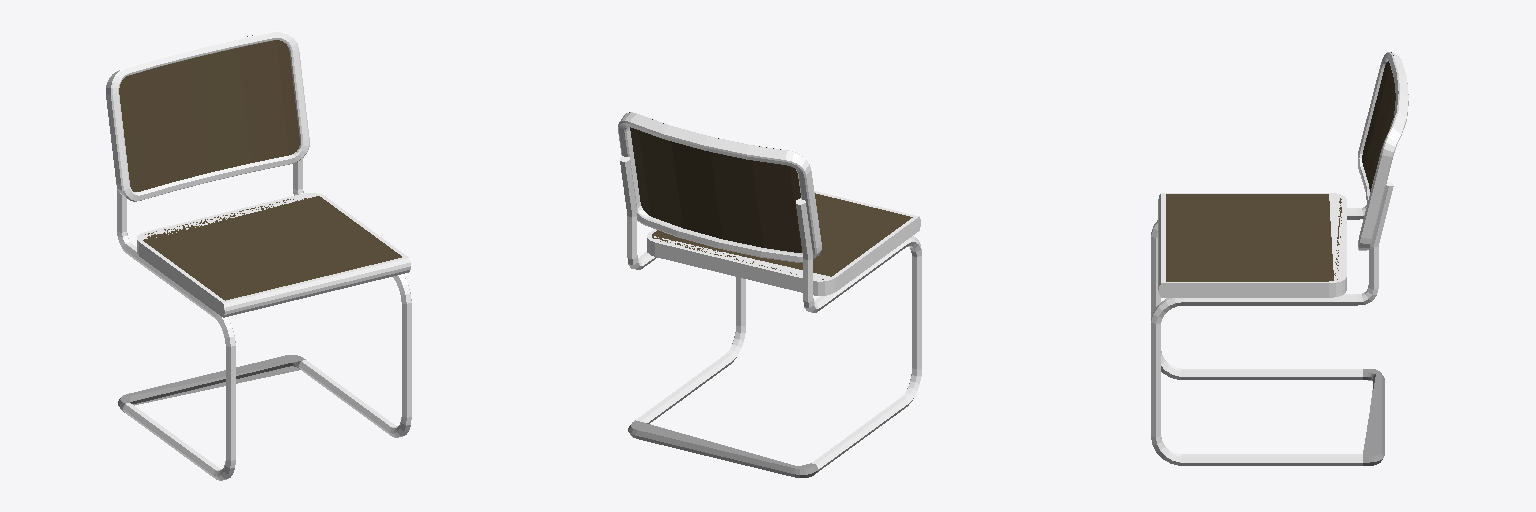
Rendered from CadeiraCescaMarcel.obj.
The picture shows the model from 3 angles: view 1: azimuth 30°, elevation 25°; view 2: azimuth 150°, elevation 25°; view 3: azimuth 270°, elevation 25°; orthographic projection.
Visible parts, largest first — view 1: Mesh2 seatback_cane1 cesca_seatback1 Model, Mesh7 cesca_seat_caine1 cesca_seat1 Model, Mesh6 seat_frame2_1 cesca_seat1 Model, Mesh1 seatback_frame1 cesca_seatback1 Model, Mesh4 frame_half203_1_1 cesca_frame1 Model, Mesh5 frame_half203_1_2 cesca_frame1 Model, Mesh3 bottom_rear_1_1 cesca_frame1 Model; view 2: Mesh2 seatback_cane1 cesca_seatback1 Model, Mesh1 seatback_frame1 cesca_seatback1 Model, Mesh6 seat_frame2_1 cesca_seat1 Model, Mesh7 cesca_seat_caine1 cesca_seat1 Model, Mesh4 frame_half203_1_1 cesca_frame1 Model, Mesh5 frame_half203_1_2 cesca_frame1 Model, Mesh3 bottom_rear_1_1 cesca_frame1 Model; view 3: Mesh7 cesca_seat_caine1 cesca_seat1 Model, Mesh5 frame_half203_1_2 cesca_frame1 Model, Mesh6 seat_frame2_1 cesca_seat1 Model, Mesh1 seatback_frame1 cesca_seatback1 Model, Mesh4 frame_half203_1_1 cesca_frame1 Model, Mesh2 seatback_cane1 cesca_seatback1 Model, Mesh3 bottom_rear_1_1 cesca_frame1 Model.
Part boxes in pixels (left/top/right/bottom): Mesh2 seatback_cane1 cesca_seatback1 Model: left=119, top=35, right=299, bottom=191; Mesh7 cesca_seat_caine1 cesca_seat1 Model: left=143, top=196, right=401, bottom=300; Mesh6 seat_frame2_1 cesca_seat1 Model: left=137, top=193, right=410, bottom=317; Mesh1 seatback_frame1 cesca_seatback1 Model: left=106, top=31, right=309, bottom=201; Mesh4 frame_half203_1_1 cesca_frame1 Model: left=116, top=184, right=235, bottom=480; Mesh5 frame_half203_1_2 cesca_frame1 Model: left=293, top=158, right=411, bottom=437; Mesh3 bottom_rear_1_1 cesca_frame1 Model: left=118, top=355, right=305, bottom=412; Mesh2 seatback_cane1 cesca_seatback1 Model: left=629, top=112, right=801, bottom=252; Mesh1 seatback_frame1 cesca_seatback1 Model: left=618, top=112, right=821, bottom=262; Mesh6 seat_frame2_1 cesca_seat1 Model: left=647, top=191, right=920, bottom=295; Mesh7 cesca_seat_caine1 cesca_seat1 Model: left=652, top=193, right=912, bottom=279; Mesh4 frame_half203_1_1 cesca_frame1 Model: left=796, top=198, right=921, bottom=472; Mesh5 frame_half203_1_2 cesca_frame1 Model: left=620, top=156, right=745, bottom=423; Mesh3 bottom_rear_1_1 cesca_frame1 Model: left=628, top=420, right=818, bottom=477; Mesh7 cesca_seat_caine1 cesca_seat1 Model: left=1166, top=194, right=1341, bottom=281; Mesh5 frame_half203_1_2 cesca_frame1 Model: left=1151, top=181, right=1393, bottom=465; Mesh6 seat_frame2_1 cesca_seat1 Model: left=1158, top=193, right=1346, bottom=297; Mesh1 seatback_frame1 cesca_seatback1 Model: left=1358, top=52, right=1408, bottom=250; Mesh4 frame_half203_1_1 cesca_frame1 Model: left=1151, top=205, right=1366, bottom=379; Mesh2 seatback_cane1 cesca_seatback1 Model: left=1362, top=52, right=1395, bottom=191; Mesh3 bottom_rear_1_1 cesca_frame1 Model: left=1363, top=369, right=1384, bottom=465.
Size of the model in its own units: 18.77 by 31.48 by 22.26.